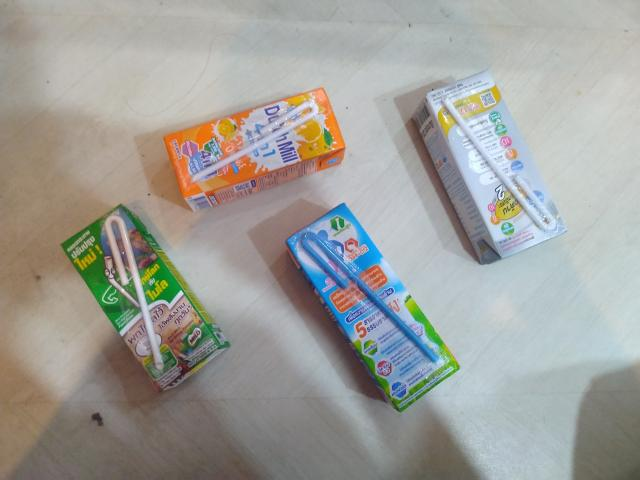drink_box: (264, 190, 474, 432), (54, 186, 247, 409), (394, 63, 584, 285), (163, 74, 372, 225)
